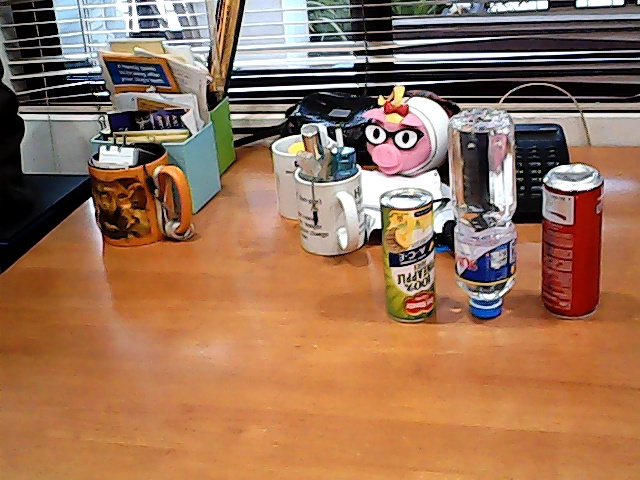Cola: (533, 150, 609, 330)
Pine Juice: (372, 175, 440, 336)
Summit Water: (445, 108, 524, 333)
